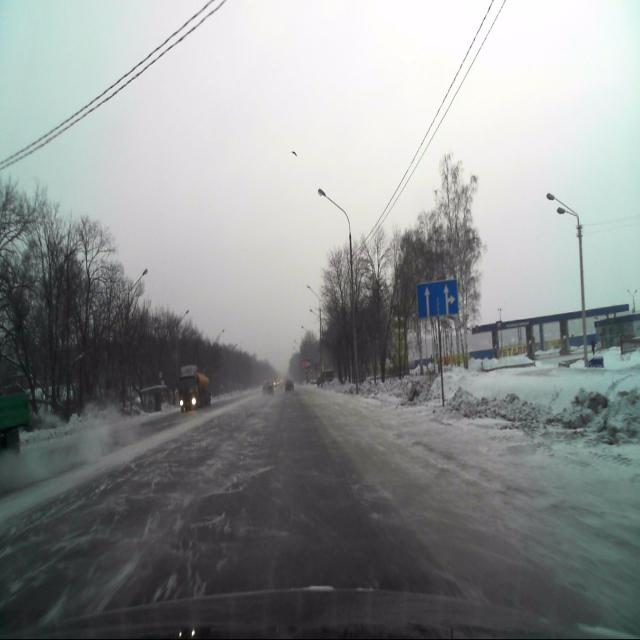object: (438, 321, 445, 406)
road sign: (417, 278, 459, 319)
